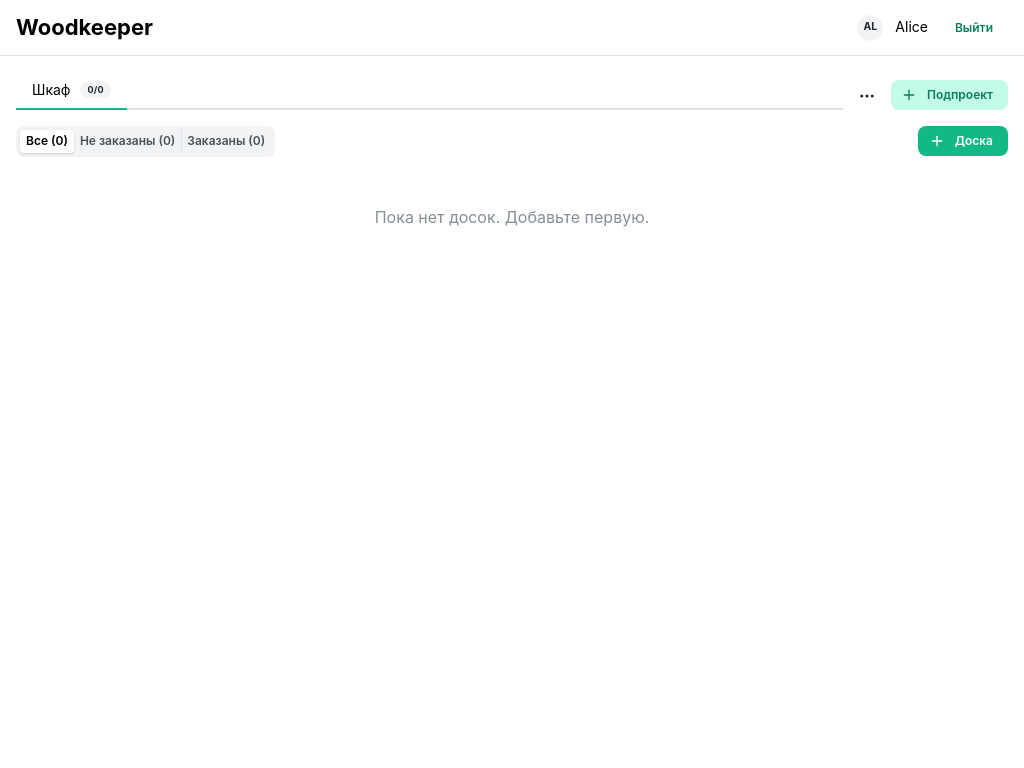
Test: projects UI › creates a project and selects it
This screenshot has width=1024, height=768.
Click the button "Подпроект".
click(949, 95)  # box [891,80,1008,110]
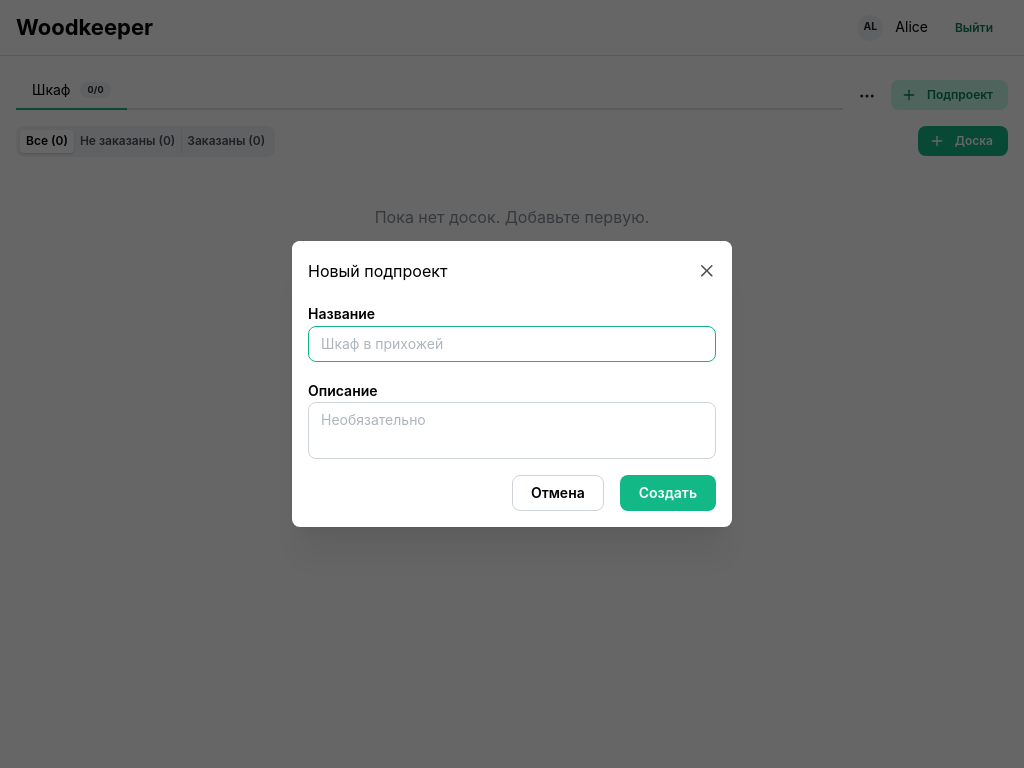
Type "  Комод  " into the field labelled "Название".
click(512, 344); type("  Комод  ")  # box [308,326,716,362]
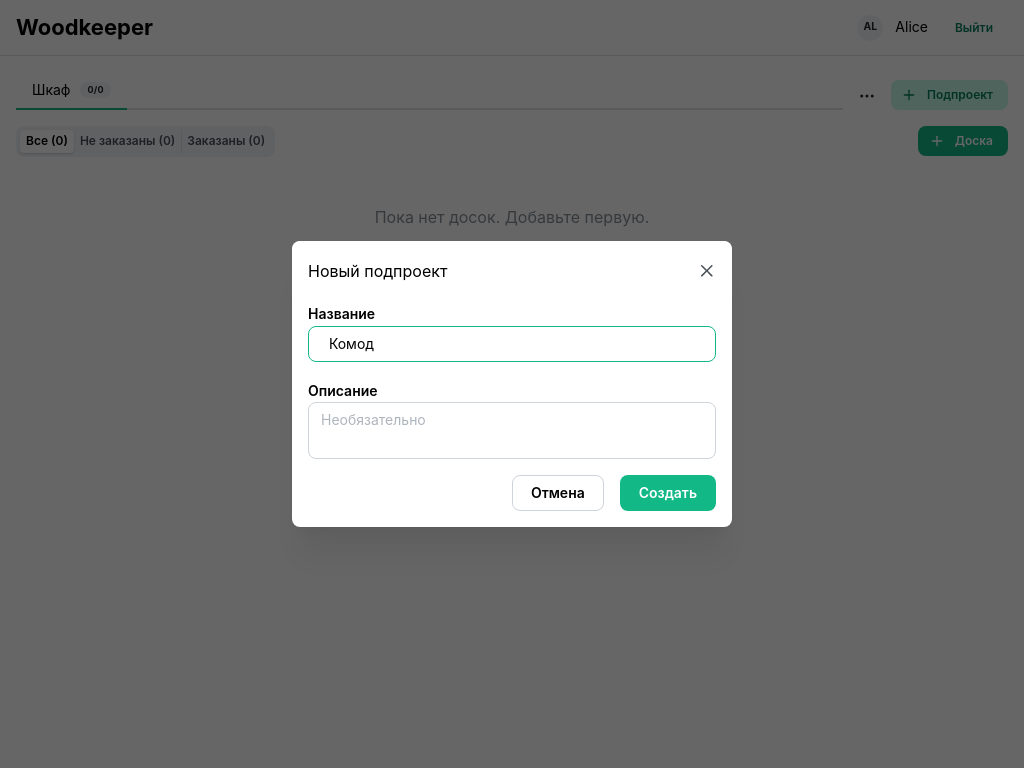
Type "Спальня" into the text box labelled "Описание".
click(512, 431); type("Спальня")  # box [308,402,716,459]
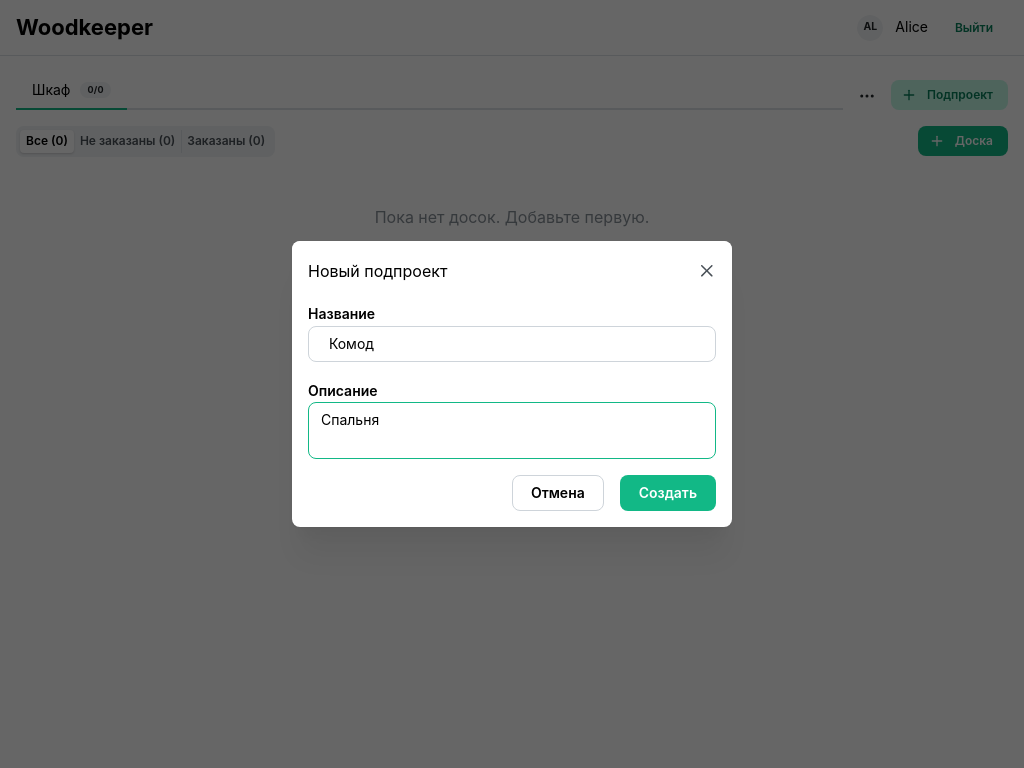
Click the button "Создать".
click(668, 493)  # box [620,475,716,511]
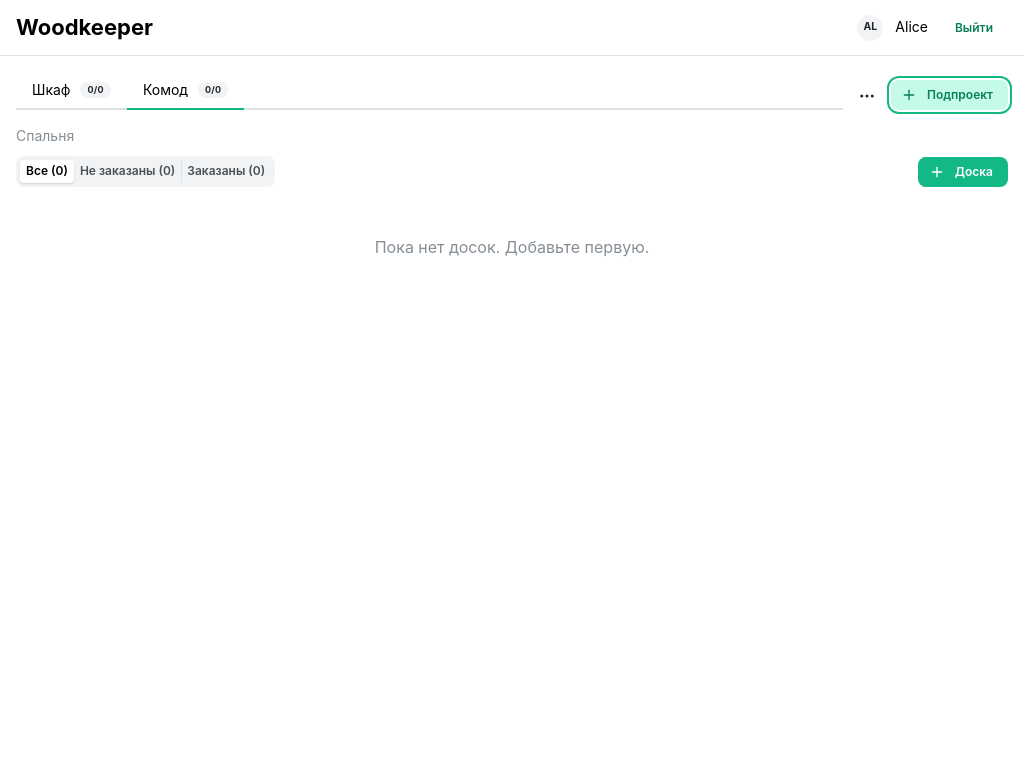
expect the dialog is gone: met
